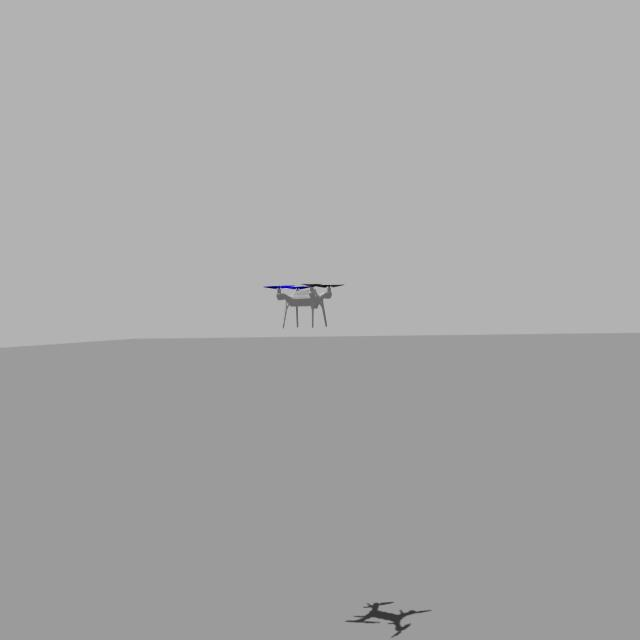Drone: (260, 274, 344, 330)
